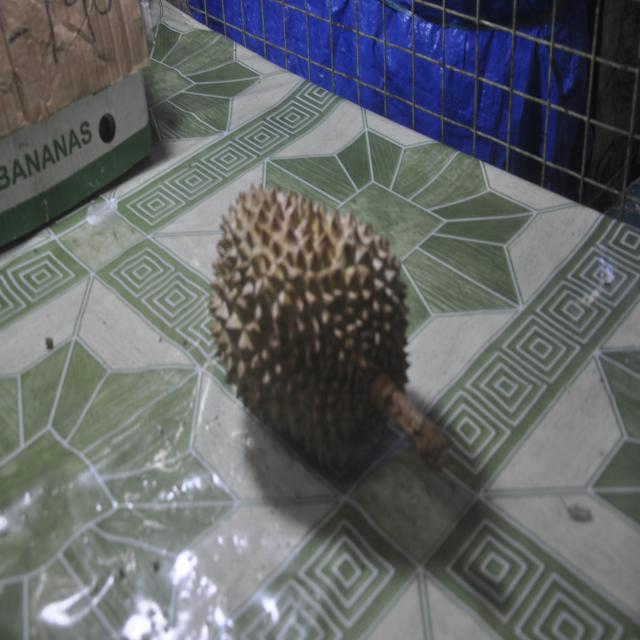mature: (210, 187, 448, 469)
